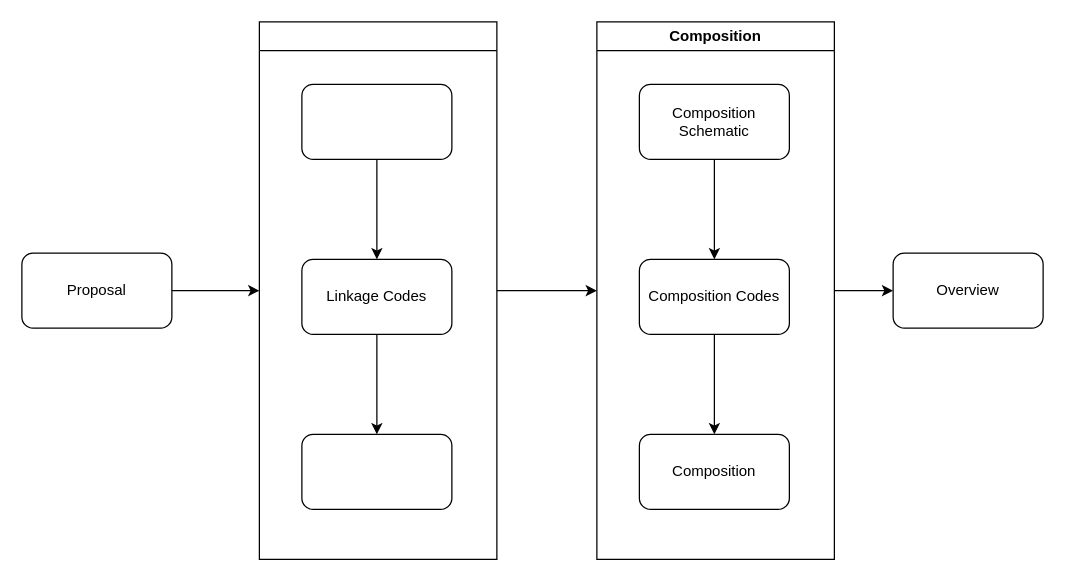
The diagram is 1065 pixels wide and 581 high, and some of its shapes have lost their labels. The shapes that lost their labels are listed below. From the top down, each one's box as (x1, y1, x2, y2) in pixels, then its label:
(301, 83, 452, 159): Linkage Schematic
(258, 21, 497, 559): Linkage Study
(301, 433, 452, 509): Linkage
